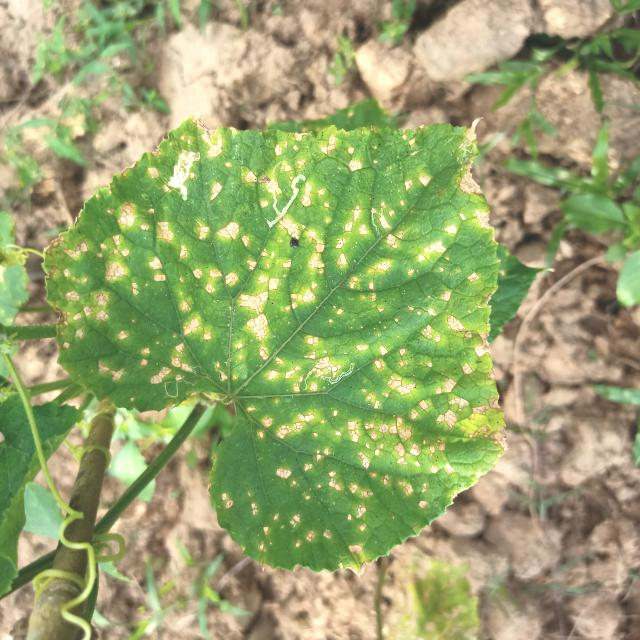disease_cucumber: (68, 126, 486, 548)
